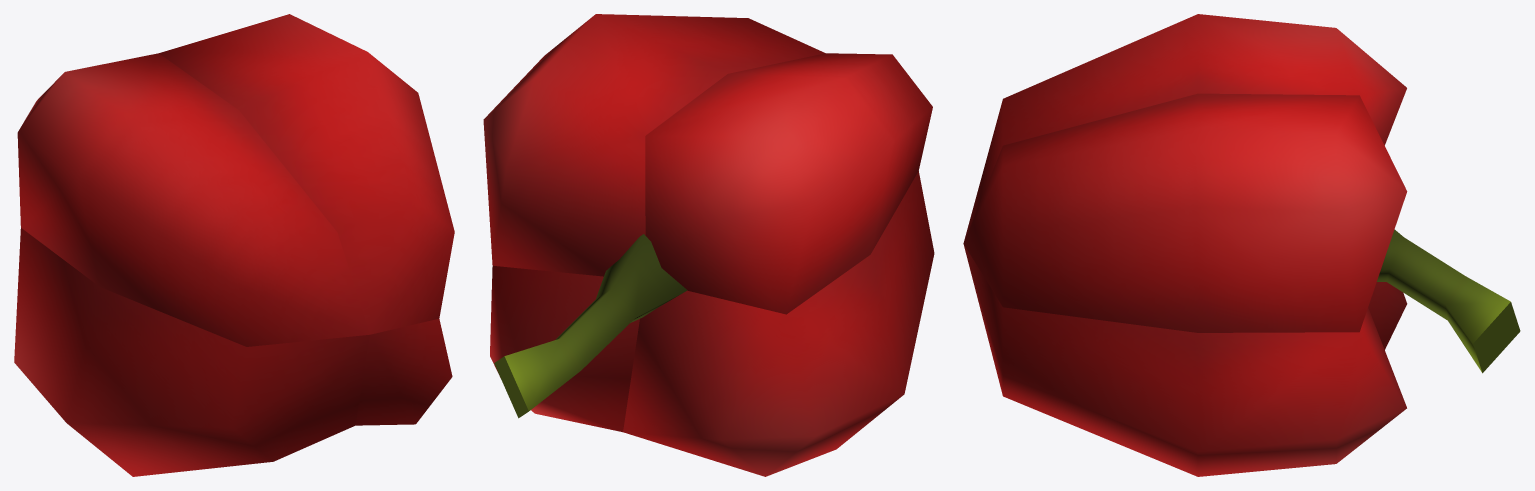
The model's file is SweetPepper.fbx.
The picture shows the model from 3 angles, left to right: view 1: azimuth 30°, elevation 25°; view 2: azimuth 150°, elevation 25°; view 3: azimuth 270°, elevation 25°; orthographic projection. The views are drawn at different scales.
Visible parts, largest first — view 1: SweetPepper; view 2: SweetPepper; view 3: SweetPepper.
Part boxes in pixels (left/top/right/bottom): SweetPepper: left=14, top=14, right=454, bottom=476; SweetPepper: left=483, top=14, right=934, bottom=476; SweetPepper: left=963, top=14, right=1520, bottom=476.
Bounding box in the file's own units: 11.29 × 15.41 × 11.28.
